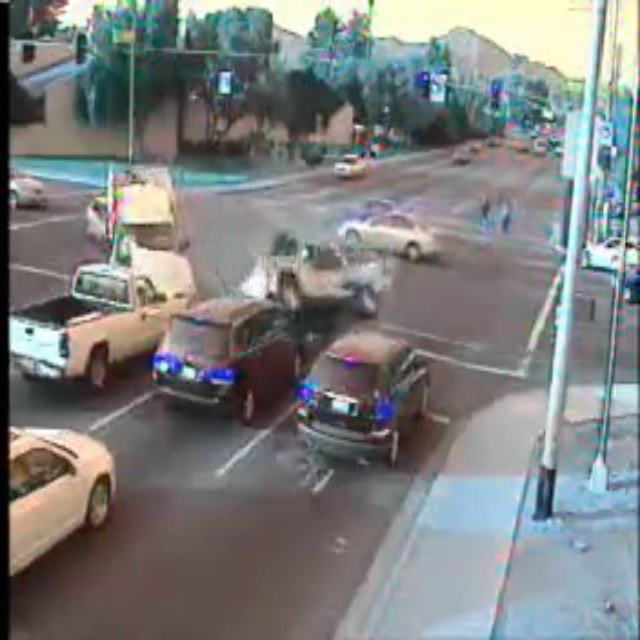acc: (82, 164, 386, 318)
